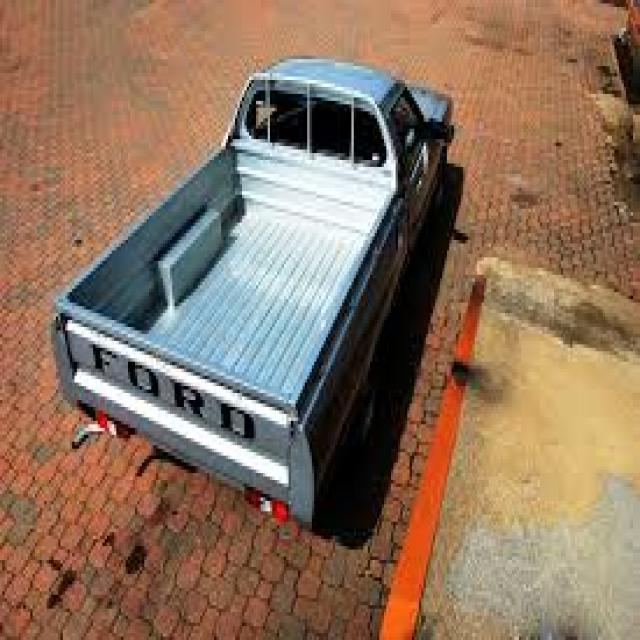Pickup Trucks: (53, 59, 454, 532)
